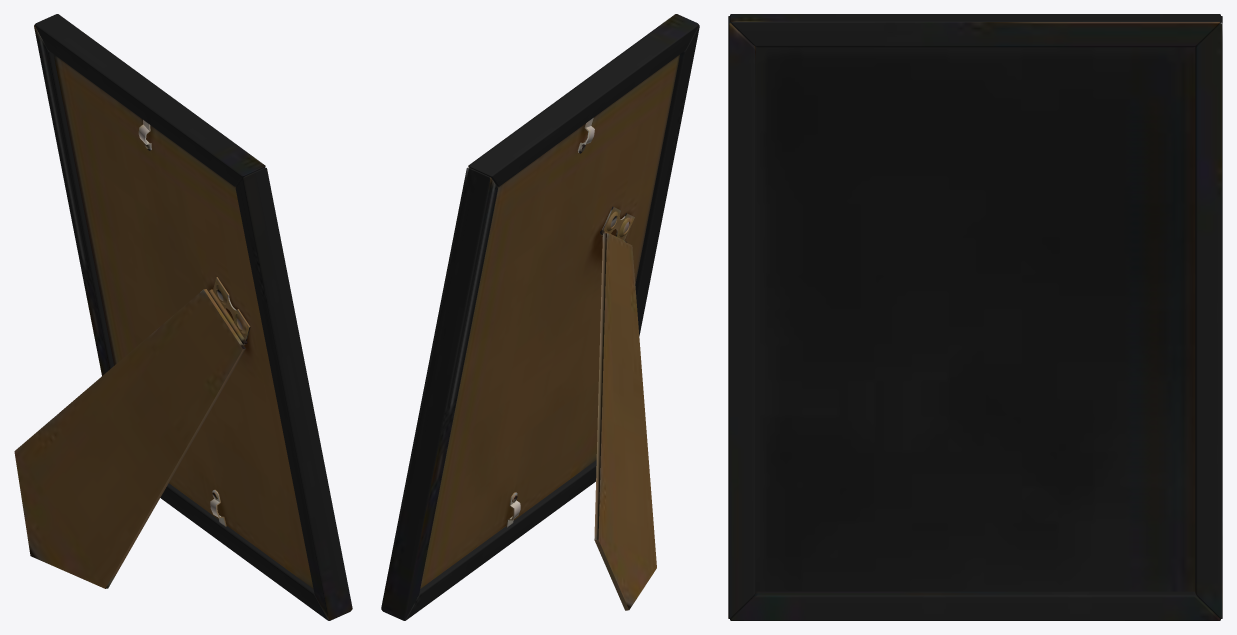
File: photoFrame.glb
3 views of the same model, side by side, from view 1: azimuth 30°, elevation 25°; view 2: azimuth 150°, elevation 25°; view 3: azimuth 270°, elevation 25° (orthographic). The views are drawn at different scales.
Visible parts, largest first — view 1: standing_picture_frame_01; view 2: standing_picture_frame_01; view 3: standing_picture_frame_01.
Part boxes in pixels (<box>): standing_picture_frame_01: <box>14,14,352,620</box>; standing_picture_frame_01: <box>381,14,699,620</box>; standing_picture_frame_01: <box>728,14,1222,620</box>.
Size of the model in its own units: 0.1003 by 0.2497 by 0.2008.
Materials: 3 (3 with a texture image).
